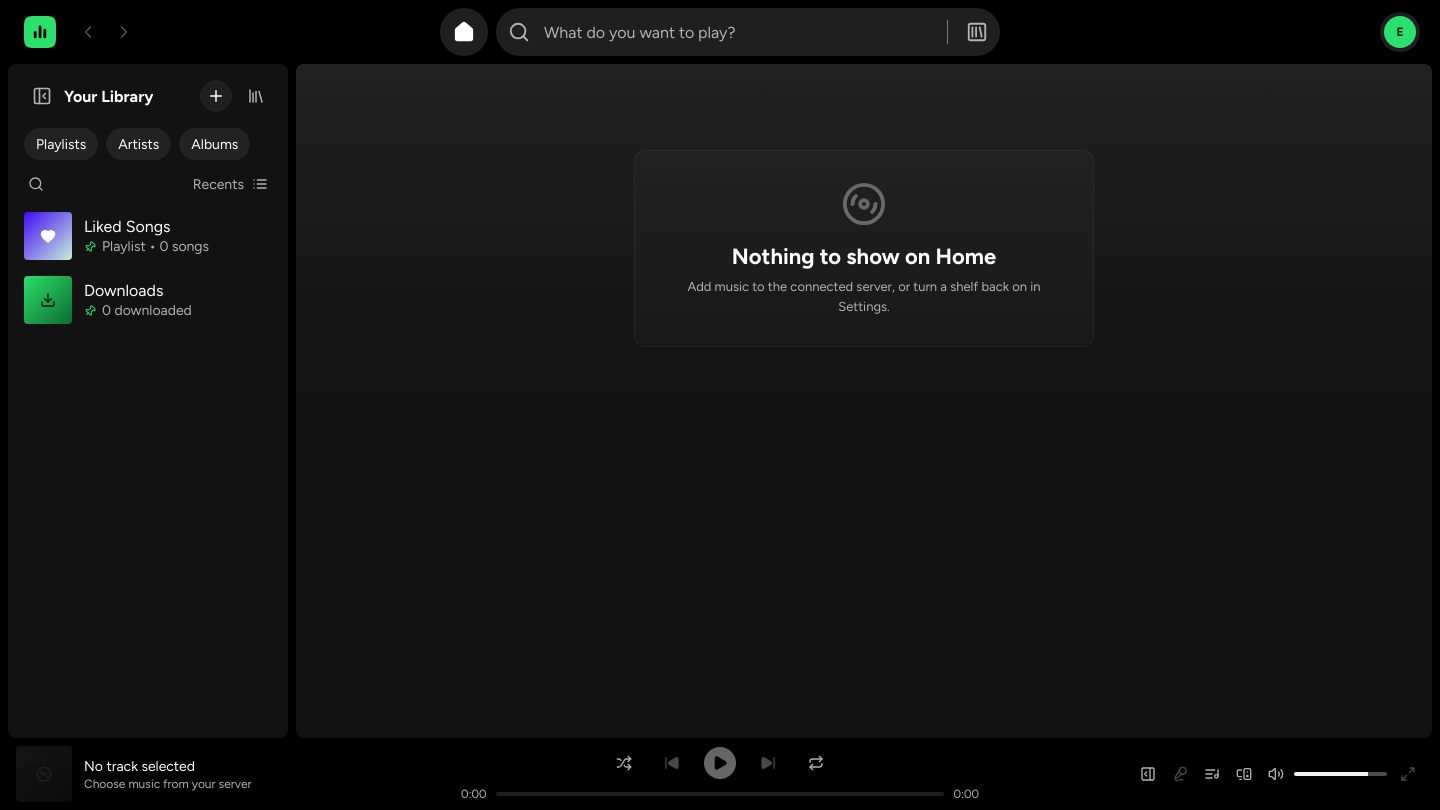
Scenario: Splynt Desktop authentication › separates switching accounts from removing a saved login
This screenshot has width=1440, height=810.
Expected: the navigation bar named "Main navigation" is shown, [440,8,1000,56]
Click the button named "Open account menu" at (1400, 32), box [1384,16,1416,48]
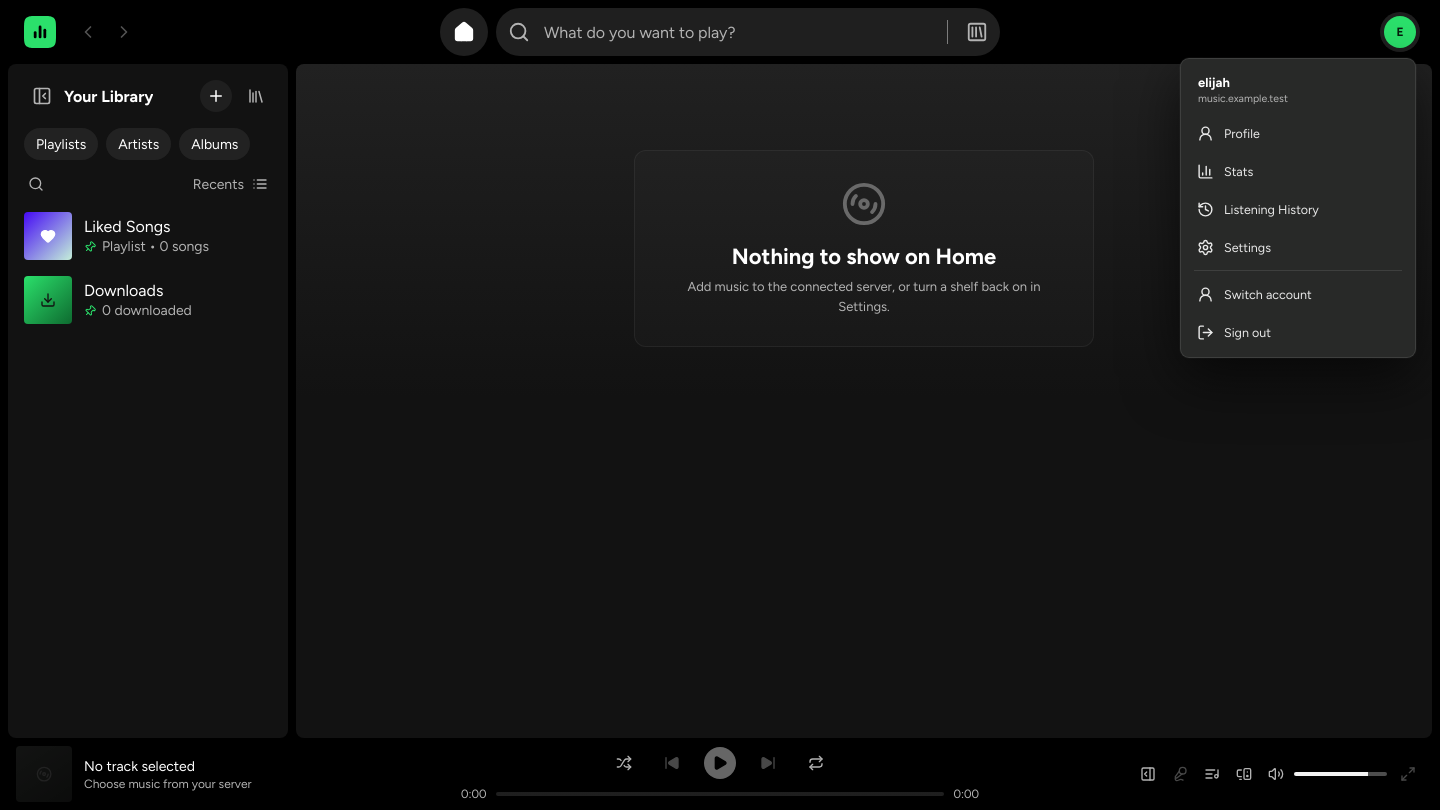
Click the menu item "Switch account" at (1298, 294), box [1187,275,1409,313]
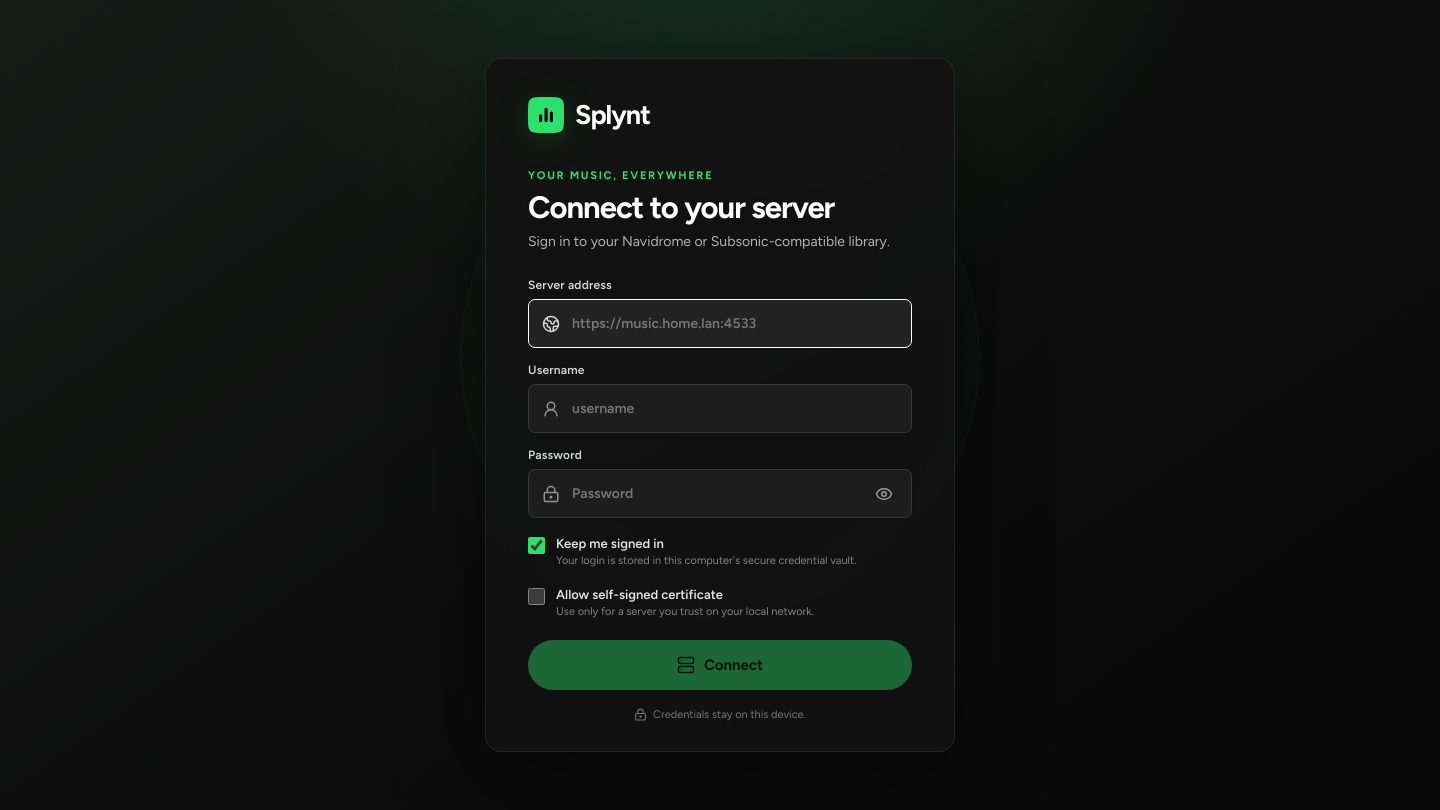
Expected: the heading "Connect to your server" is shown, [528,189,834,226]
